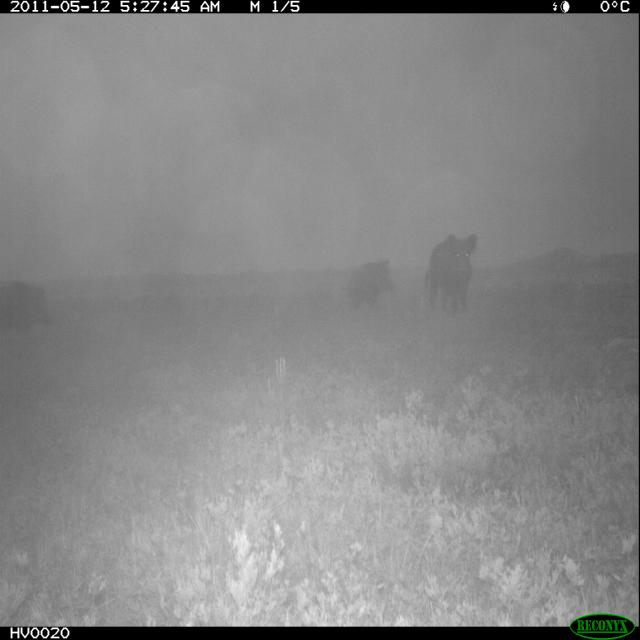boar: (398, 215, 505, 336), (0, 264, 73, 354), (335, 243, 402, 324)
